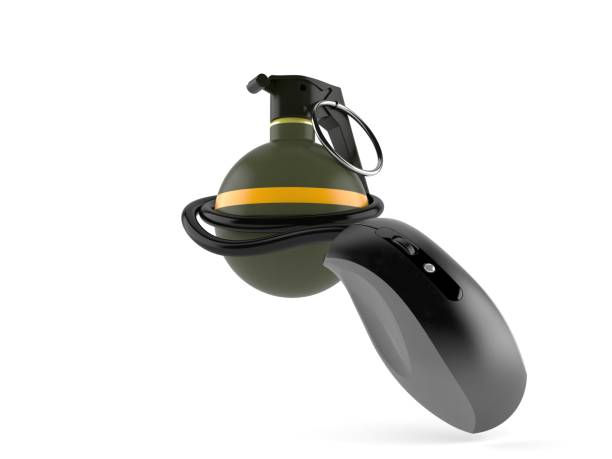e1: (215, 75, 381, 304)
